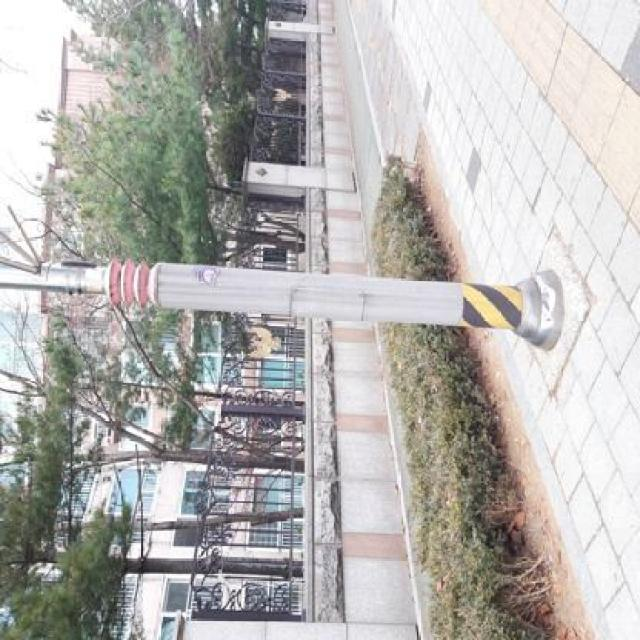pole: (0, 237, 574, 358)
